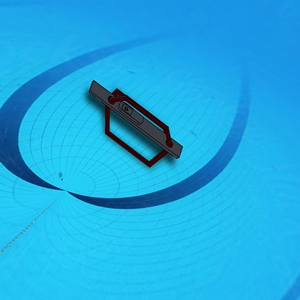submarine: (87, 82, 182, 164)
